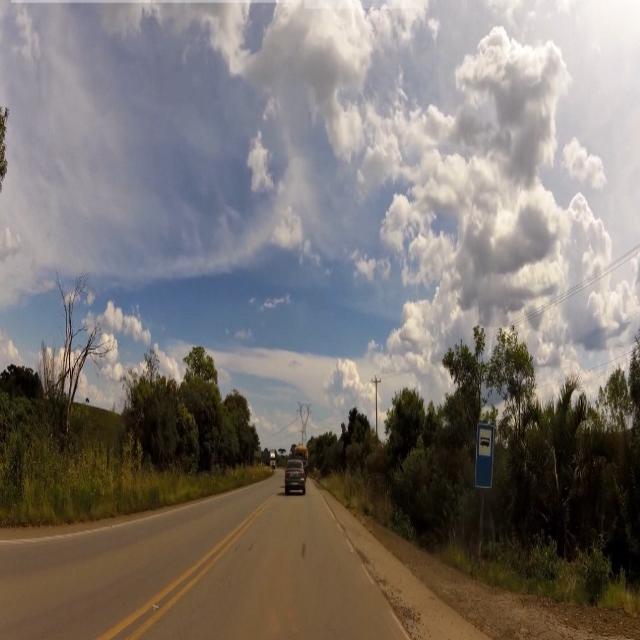S-14: (476, 422, 494, 486)
